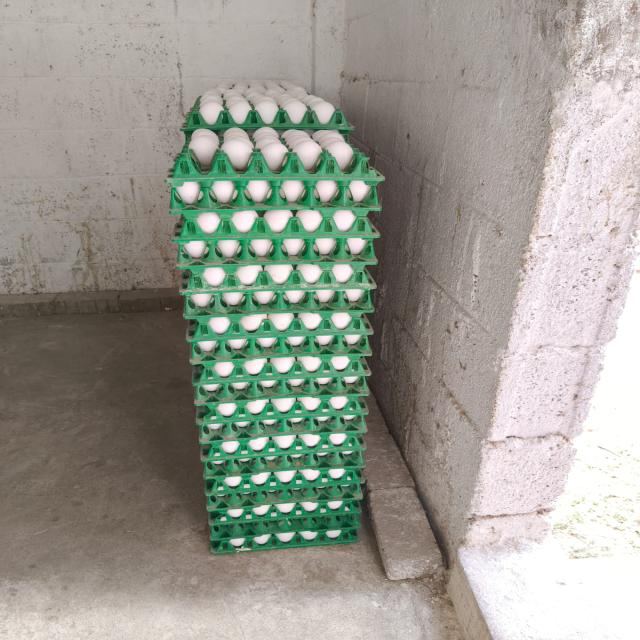egg_tray: (166, 130, 383, 204), (192, 336, 370, 417), (165, 152, 383, 217), (172, 203, 379, 268), (206, 471, 361, 552), (197, 387, 367, 459), (172, 209, 379, 266), (198, 396, 366, 460), (196, 376, 369, 438), (200, 395, 365, 460), (179, 263, 375, 317), (207, 484, 361, 552), (205, 450, 363, 516), (192, 356, 370, 414), (208, 485, 361, 552), (201, 432, 365, 493), (192, 356, 370, 412), (170, 174, 381, 219), (197, 396, 366, 452), (177, 237, 377, 284), (201, 436, 365, 492), (201, 430, 365, 485), (178, 127, 367, 174), (195, 375, 369, 425), (181, 80, 353, 130), (201, 440, 363, 493), (187, 311, 372, 356), (179, 262, 375, 304), (180, 261, 375, 302), (194, 369, 369, 414), (180, 126, 354, 171), (173, 206, 379, 242), (173, 234, 377, 270), (187, 310, 372, 349), (204, 451, 363, 495), (174, 235, 377, 269), (209, 500, 361, 545), (194, 376, 369, 415), (198, 414, 366, 454), (203, 452, 363, 494), (180, 96, 354, 134), (197, 390, 367, 428), (192, 355, 370, 391), (198, 414, 366, 450), (194, 356, 367, 389), (190, 334, 371, 365), (182, 289, 373, 318), (205, 480, 362, 512), (201, 432, 365, 461), (210, 513, 359, 541), (207, 500, 361, 525), (211, 528, 358, 554), (280, 334, 362, 348), (271, 398, 304, 428), (296, 396, 318, 408), (205, 385, 222, 399), (285, 243, 302, 255), (302, 435, 320, 446), (316, 376, 331, 388), (276, 437, 292, 448), (252, 245, 268, 255), (349, 242, 362, 254), (187, 321, 195, 339), (303, 400, 316, 411), (232, 381, 247, 390), (329, 396, 345, 404), (265, 403, 277, 413), (235, 421, 245, 433), (262, 418, 277, 426), (225, 479, 239, 487), (258, 295, 270, 304), (298, 397, 309, 406), (319, 246, 331, 254), (351, 319, 361, 328), (204, 437, 217, 442), (274, 440, 282, 448), (309, 402, 319, 408), (197, 300, 207, 306), (329, 438, 339, 444), (334, 400, 343, 406), (201, 344, 210, 350), (261, 330, 271, 335), (350, 294, 357, 301), (301, 356, 313, 360), (347, 414, 355, 419), (260, 104, 265, 112), (211, 423, 220, 427), (276, 456, 282, 462), (192, 183, 198, 188), (227, 298, 233, 303), (290, 165, 296, 170), (322, 416, 329, 420), (338, 356, 347, 359), (329, 167, 334, 172), (272, 403, 276, 408), (220, 409, 225, 413), (236, 114, 241, 118), (307, 440, 313, 443), (292, 439, 295, 445), (310, 402, 313, 408), (286, 456, 292, 459), (277, 436, 285, 438), (306, 434, 314, 436), (295, 115, 299, 119), (314, 398, 319, 401), (232, 333, 237, 336), (306, 470, 313, 472), (348, 479, 354, 481), (173, 173, 177, 176), (214, 334, 217, 337), (265, 420, 269, 422), (261, 410, 263, 414), (207, 480, 211, 482), (227, 408, 231, 410), (321, 400, 325, 402), (253, 448, 257, 450), (185, 183, 191, 184), (239, 422, 242, 424), (211, 345, 214, 347), (279, 410, 282, 412), (301, 410, 303, 413), (265, 320, 268, 322), (212, 318, 215, 320), (187, 275, 188, 281), (230, 478, 233, 480), (294, 380, 297, 382), (251, 349, 256, 350), (225, 407, 230, 408), (347, 203, 349, 205), (278, 411, 280, 413), (319, 510, 321, 512), (271, 485, 275, 486), (297, 400, 301, 401), (258, 364, 260, 366), (341, 400, 342, 403), (300, 478, 301, 481), (342, 268, 345, 269), (261, 538, 264, 539), (189, 330, 190, 332), (278, 446, 279, 448), (255, 418, 257, 419), (323, 356, 325, 357), (231, 482, 233, 483), (225, 411, 227, 412), (286, 387, 288, 388), (265, 405, 266, 406), (336, 434, 337, 435), (325, 243, 326, 244), (283, 478, 284, 479), (236, 450, 237, 450), (214, 423, 214, 424), (214, 418, 214, 419), (247, 412, 247, 412), (253, 408, 255, 408), (223, 454, 223, 454), (361, 329, 361, 330), (316, 399, 319, 399), (181, 289, 181, 292), (283, 462, 283, 463)
